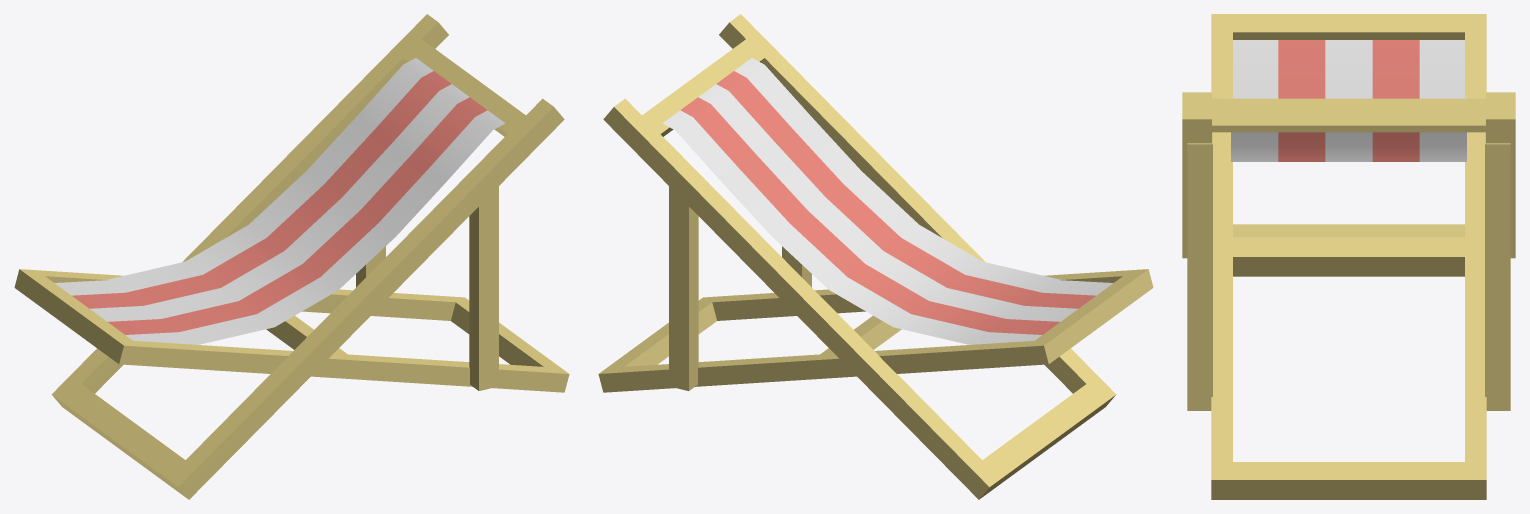
The model's file is Deck_chair.fbx.
3 views of the same model, side by side, from view 1: azimuth 30°, elevation 25°; view 2: azimuth 150°, elevation 25°; view 3: azimuth 270°, elevation 25° (orthographic). The views are drawn at different scales.
Parts seen in each view (by area): view 1: Deck_chair; view 2: Deck_chair; view 3: Deck_chair.
Boxes of the visible parts, x1=… form: Deck_chair: x1=14, y1=14, x2=569, y2=499; Deck_chair: x1=598, y1=14, x2=1153, y2=499; Deck_chair: x1=1182, y1=14, x2=1515, y2=499.
Bounding box in the file's own units: 410 × 265 × 200.
